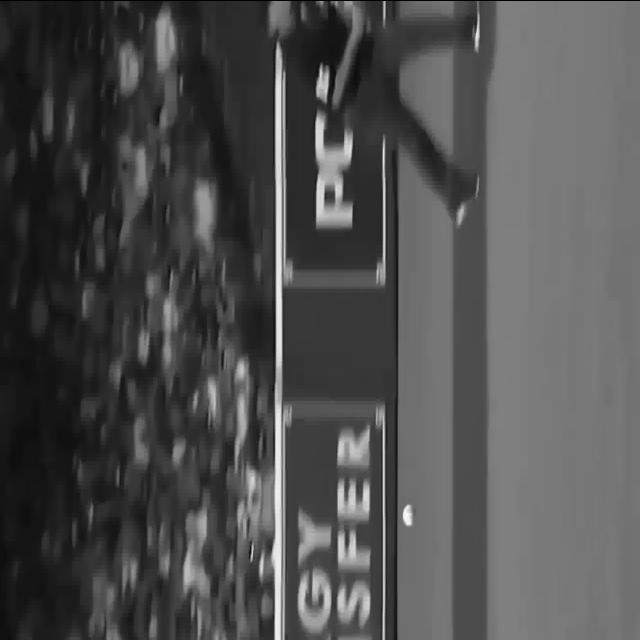baseball: (402, 504, 414, 526)
shoe: (448, 168, 480, 228), (472, 6, 480, 53)
